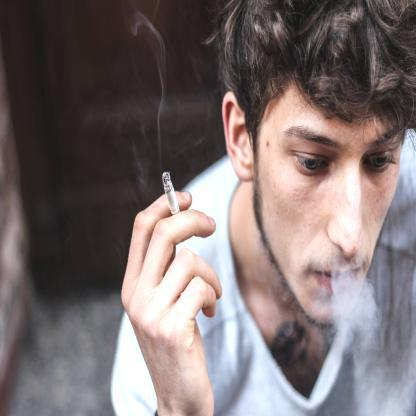cigarette: (161, 172, 181, 216)
person: (118, 0, 415, 415)
smoke: (328, 268, 378, 342)
